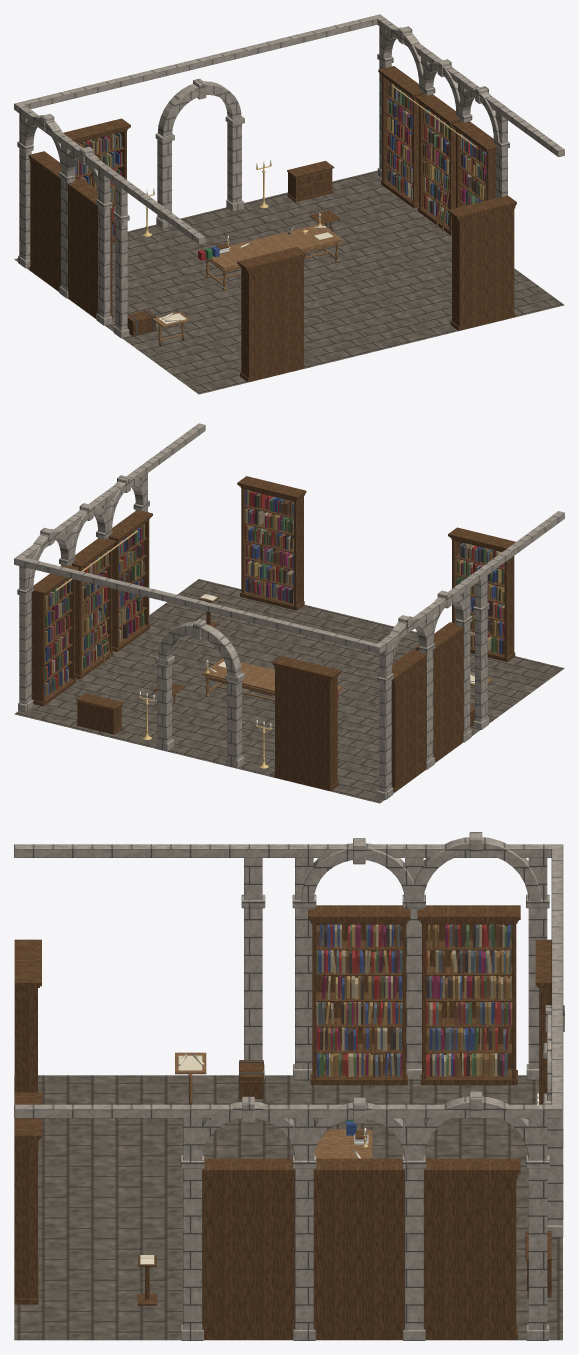
File: library.glb
3 views of the same model, one above another, from view 1: azimuth 30°, elevation 25°; view 2: azimuth 150°, elevation 25°; view 3: azimuth 270°, elevation 25° (orthographic). The views are drawn at different scales.
Visible parts, largest first — view 1: Floor, CaseF, CaseF.001, CaseL.001, CaseL, CorniceB, CaseR, Desk, CaseR.001, CaseRBooks, CaseRBooks.001, CaseR.002 (+21 smaller); view 2: Floor, CaseB, CaseFBooks.001, CaseL, CaseL.001, CorniceB, CaseF.001, CaseR, CaseF, CaseR.002, CaseR.001, CaseFBooks (+20 smaller); view 3: Floor, CaseR, CaseR.002, CaseR.001, CaseLBooks.001, CaseLBooks, CaseL.001, CaseL, Cornice, Cornice.001, CaseF.001, Pilaster.004 (+18 smaller).
Part boxes in pixels (box(x1,y1,x2,y2)): Floor: box(14, 170, 564, 394); CaseF: box(237, 247, 306, 382); CaseF.001: box(448, 195, 516, 330); CaseL.001: box(67, 178, 115, 318); CaseL: box(28, 151, 78, 291); CorniceB: box(14, 14, 382, 111); CaseR: box(378, 66, 422, 208); Desk: box(206, 223, 343, 285); CaseR.001: box(415, 94, 459, 235); CaseRBooks: box(386, 80, 412, 199); CaseRBooks.001: box(423, 107, 449, 227); CaseR.002: box(452, 121, 496, 207); Floor: box(14, 579, 564, 803); CaseB: box(272, 656, 341, 791); CaseFBooks.001: box(245, 490, 293, 603); CaseL: box(378, 649, 426, 791); CaseL.001: box(415, 622, 463, 762); CorniceB: box(14, 556, 383, 653); CaseF.001: box(237, 476, 306, 610); CaseR: box(31, 565, 78, 706); CaseF: box(448, 527, 515, 661); CaseR.002: box(108, 510, 152, 652); CaseR.001: box(71, 538, 115, 679); CaseFBooks: box(455, 543, 504, 654); Floor: box(14, 1075, 562, 1340); CaseR: box(423, 1158, 520, 1339); CaseR.002: box(202, 1158, 294, 1339); CaseR.001: box(313, 1158, 404, 1339); CaseLBooks.001: box(316, 924, 402, 1077); CaseLBooks: box(426, 924, 512, 1077); CaseL.001: box(308, 905, 410, 1085); CaseL: box(417, 905, 520, 1085); Cornice: box(14, 844, 563, 857); Cornice.001: box(14, 1104, 563, 1118); CaseF.001: box(14, 1092, 41, 1304); Pilaster.004: box(528, 1105, 547, 1329).
Size of the model in its own units: 16.1 by 6.84 by 14.04.
Materials: 11 (5 with a texture image).
